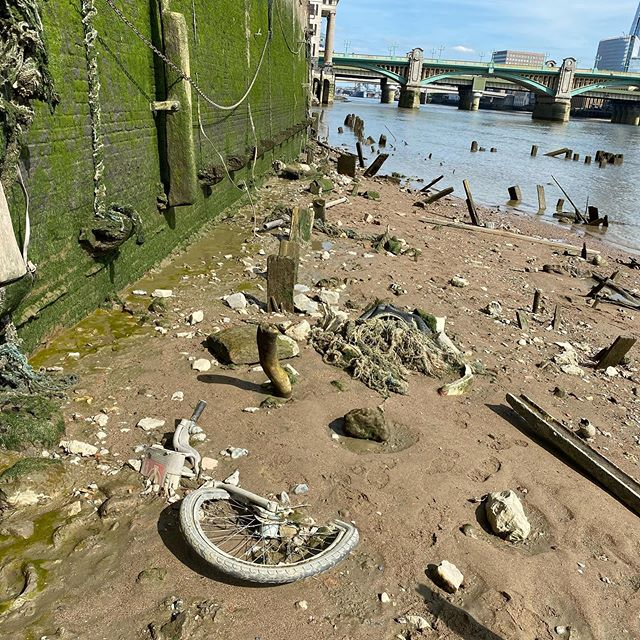bridge: (317, 32, 640, 139)
river: (344, 94, 640, 222)
trash: (30, 102, 600, 640)
